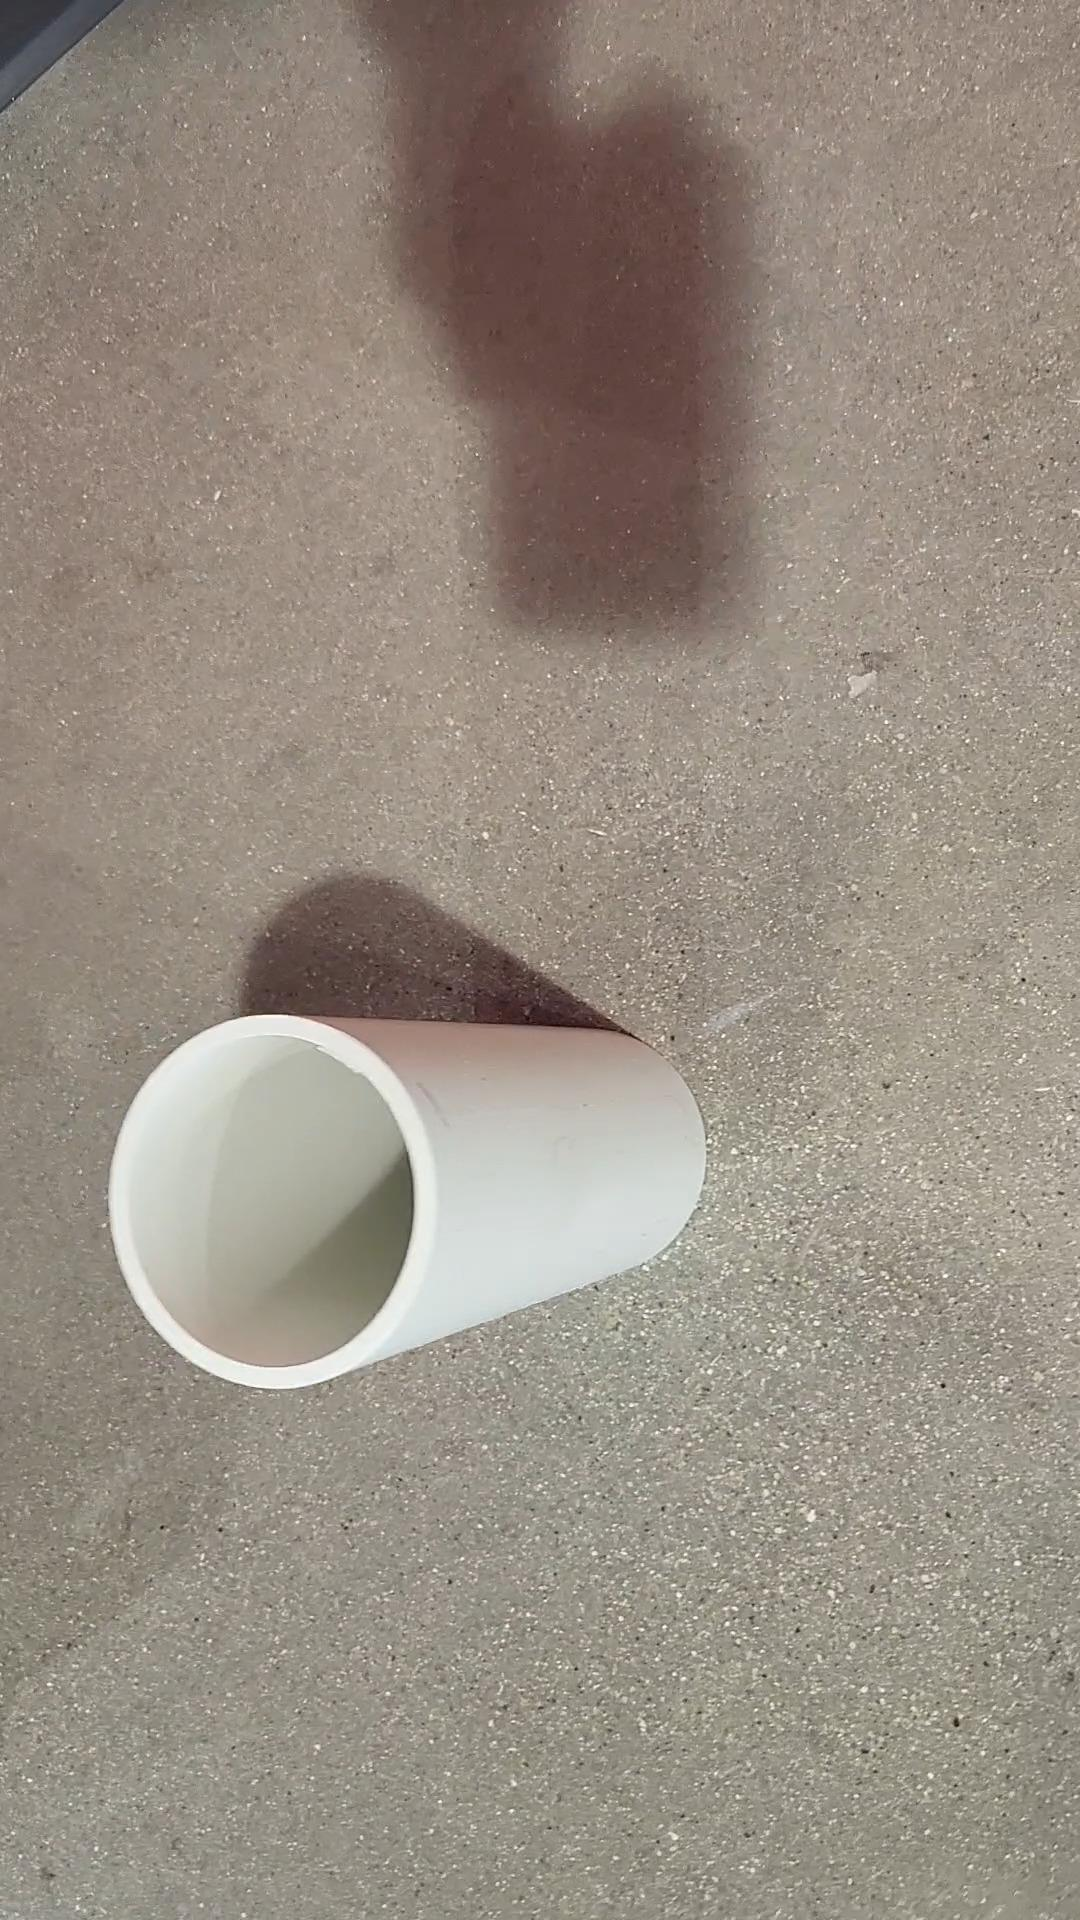coral: (107, 998, 717, 1393)
